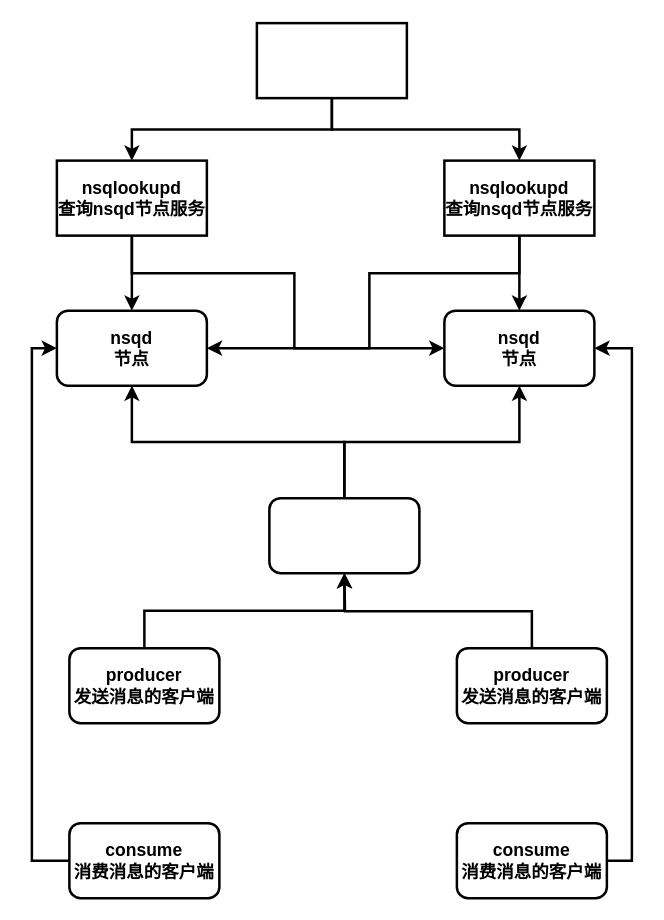
This 664x920 diagram has some shape labels left out. The shapes that lost their labels are listed below. From the top down, each one's centre as x and y in pixels, then its label:
At [331,60]: "nsqadmin 管理UI".
At [344,535]: "proxy".
